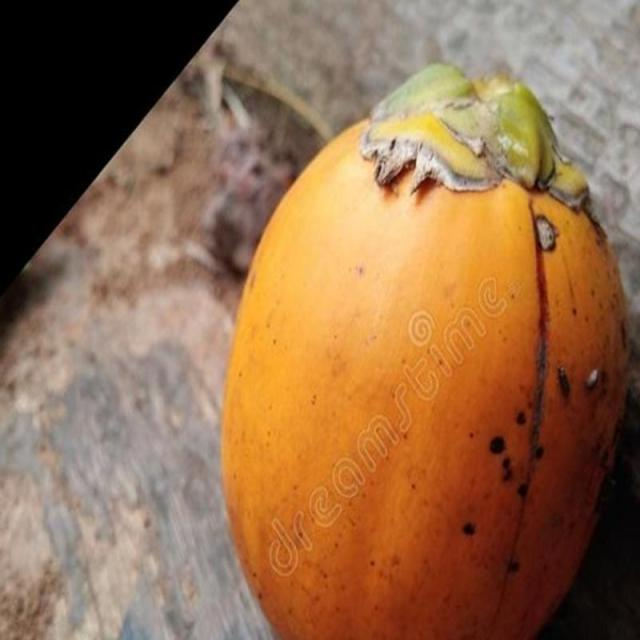good: (219, 64, 632, 639)
